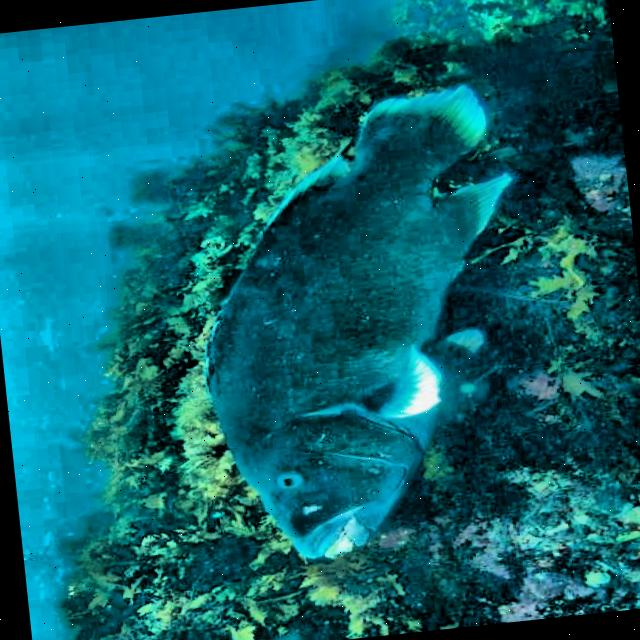fish: (178, 79, 546, 568)
